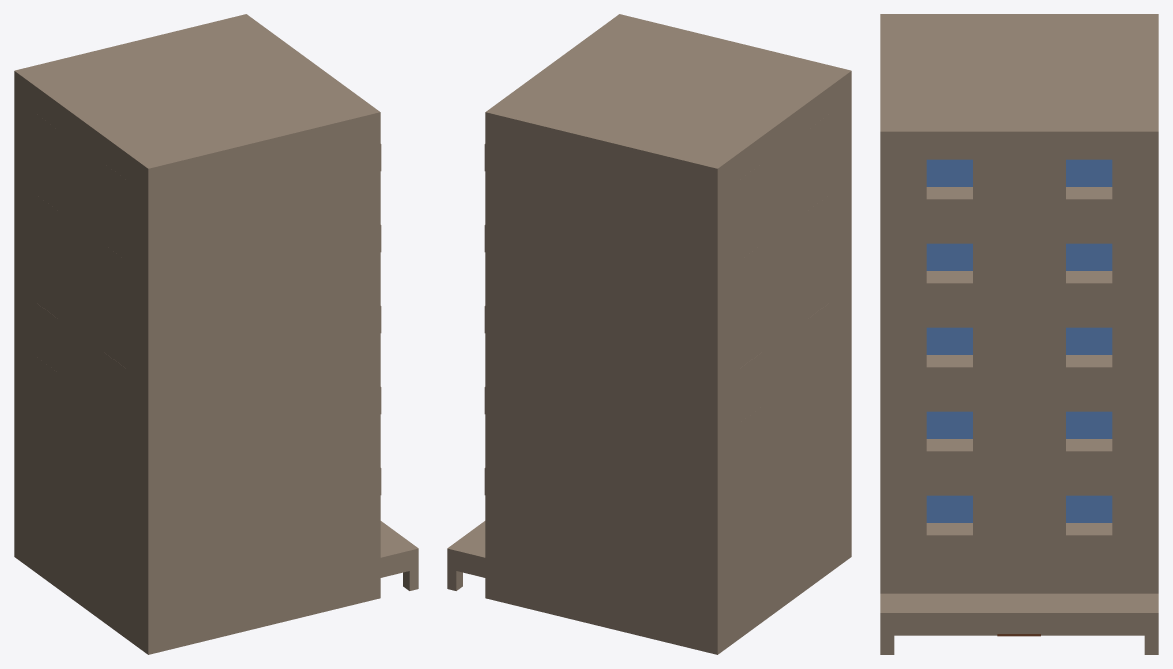
Rendered from predio2.fbx.
3 renders of one model, left to right at view 1: azimuth 30°, elevation 25°; view 2: azimuth 150°, elevation 25°; view 3: azimuth 270°, elevation 25°, orthographic. The views are drawn at different scales.
Visible parts, largest first — view 1: Cube; view 2: Cube; view 3: Cube.
Boxes of the visible parts, box(x1,y1,x2,y2) form: Cube: box(14, 14, 418, 654); Cube: box(447, 14, 851, 654); Cube: box(880, 14, 1158, 654).
Bounding box in the file's own units: 233 × 400 × 200.
